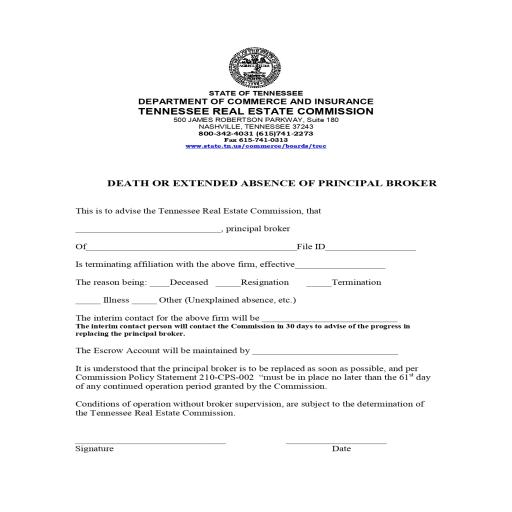Signature: (71, 442, 118, 458)
date: (325, 444, 361, 457)
free_text: (294, 239, 327, 253)
